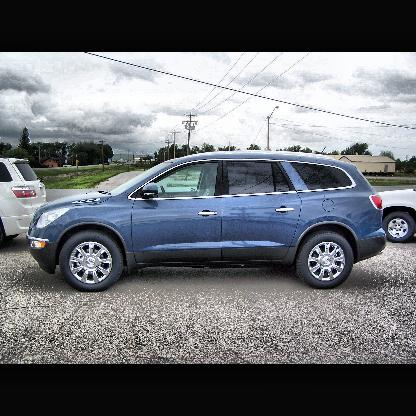Buick Enclave SUV 2012: (25, 149, 389, 292)
